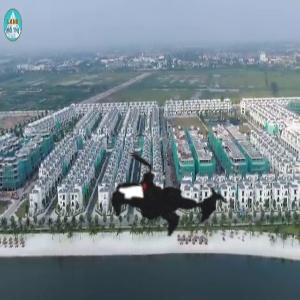drone: (81, 105, 255, 279)
